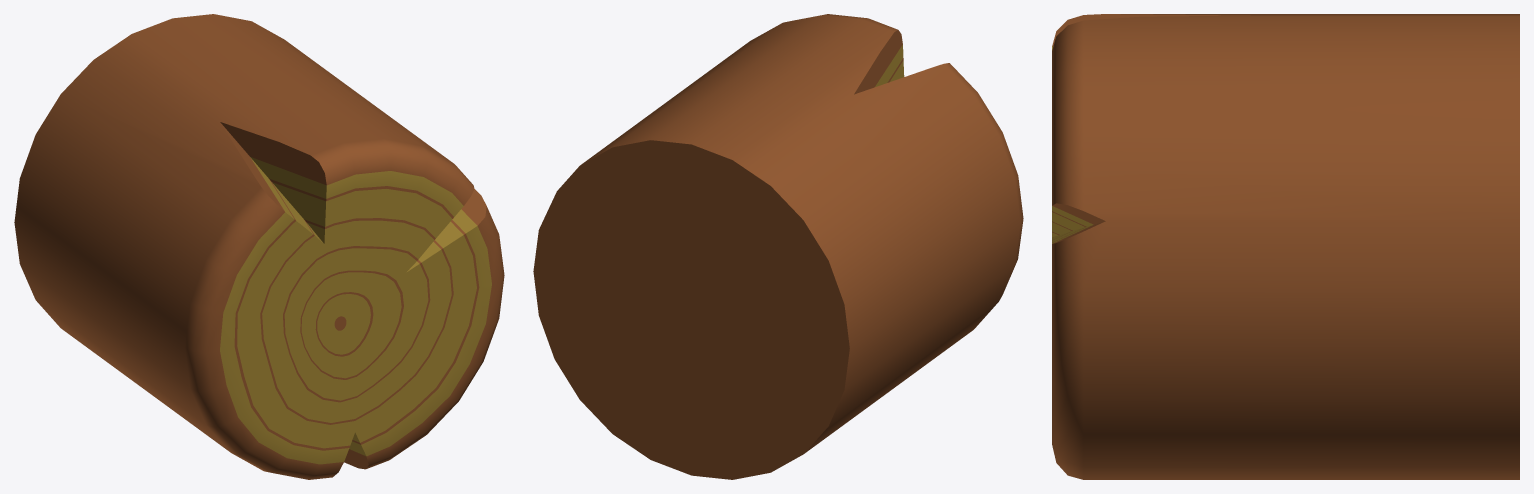
The model's file is trunk_axemarks.glb.
3 renders of one model, left to right at view 1: azimuth 30°, elevation 25°; view 2: azimuth 150°, elevation 25°; view 3: azimuth 270°, elevation 25°, orthographic. The views are drawn at different scales.
Visible parts, largest first — view 1: trunk_axemarks; view 2: trunk_axemarks; view 3: trunk_axemarks.
Part boxes in pixels (x1,y1,x2,y2): trunk_axemarks: (14, 14, 504, 479); trunk_axemarks: (533, 14, 1023, 479); trunk_axemarks: (1052, 14, 1519, 479).
Size of the model in its own units: 3 by 3 by 3.
